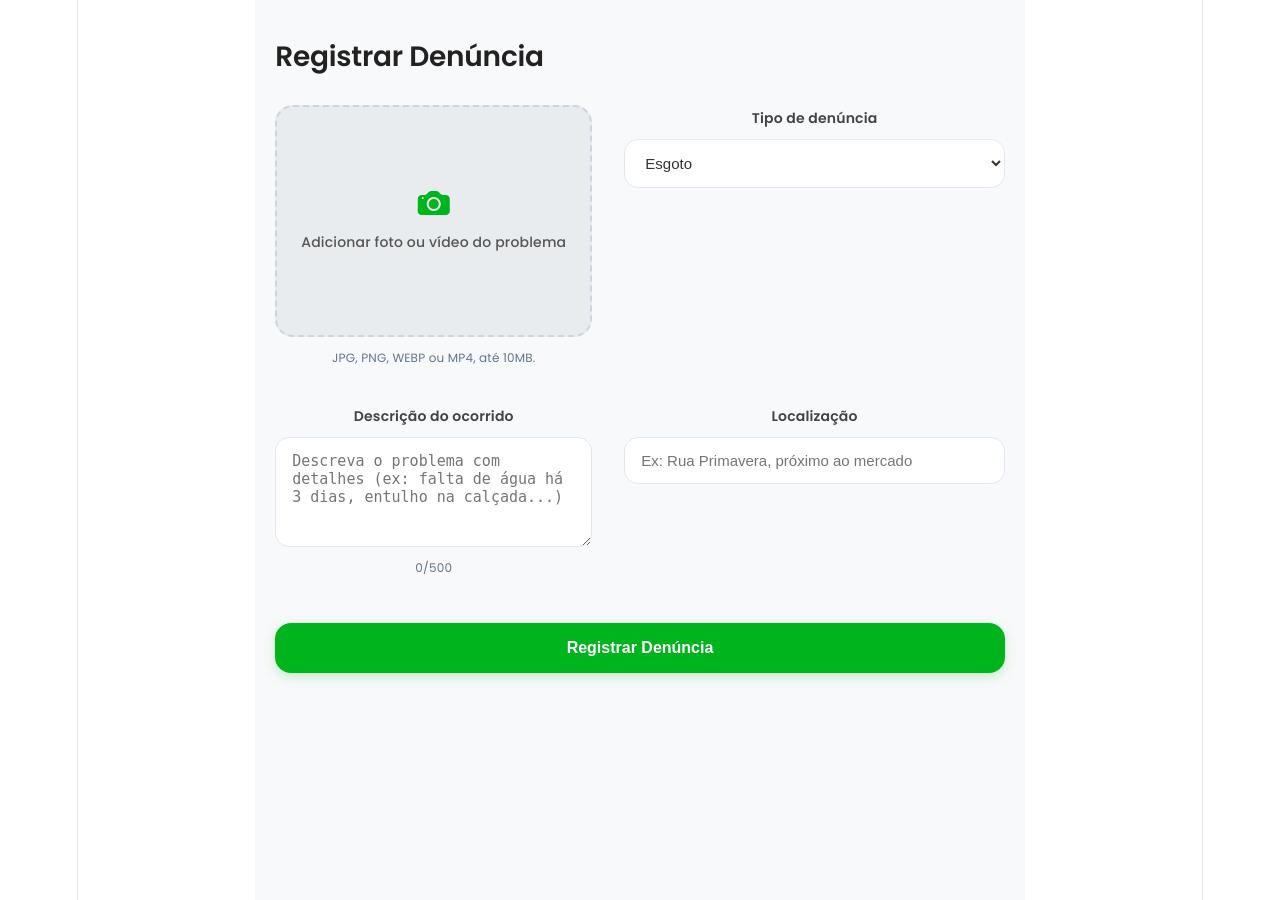
Test: ReportPage › endereço não encontrado mostra erro no campo e permite nova tentativa
Type "Rua Inexistente" into the field labelled "Localização" at (815, 461), box [624,437,1005,484]
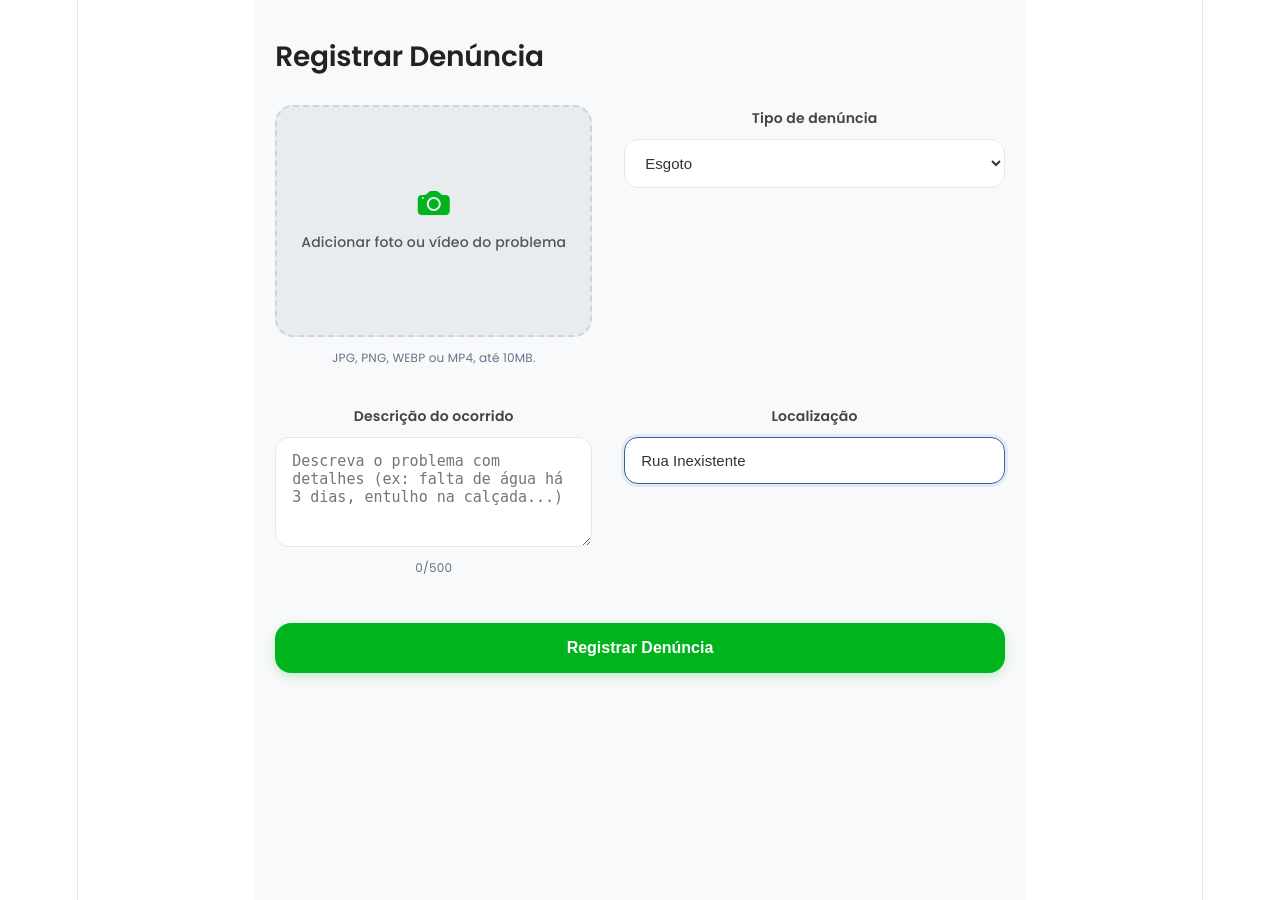
Press Tab
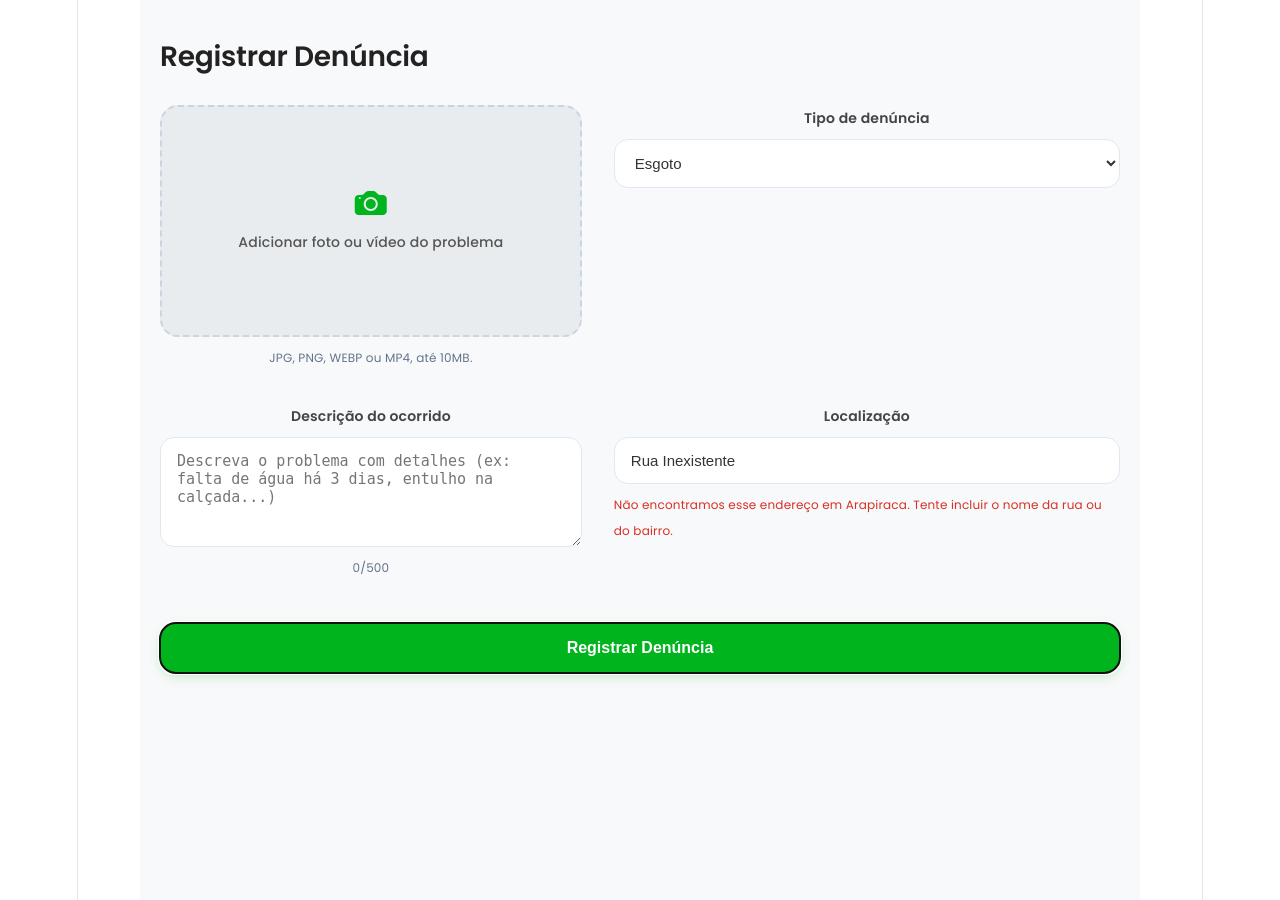
Now the message shows "Não encontramos esse endereço", box [614,496,1102,539]
Click the field labelled "Localização" at (867, 461), box [614,437,1120,484]
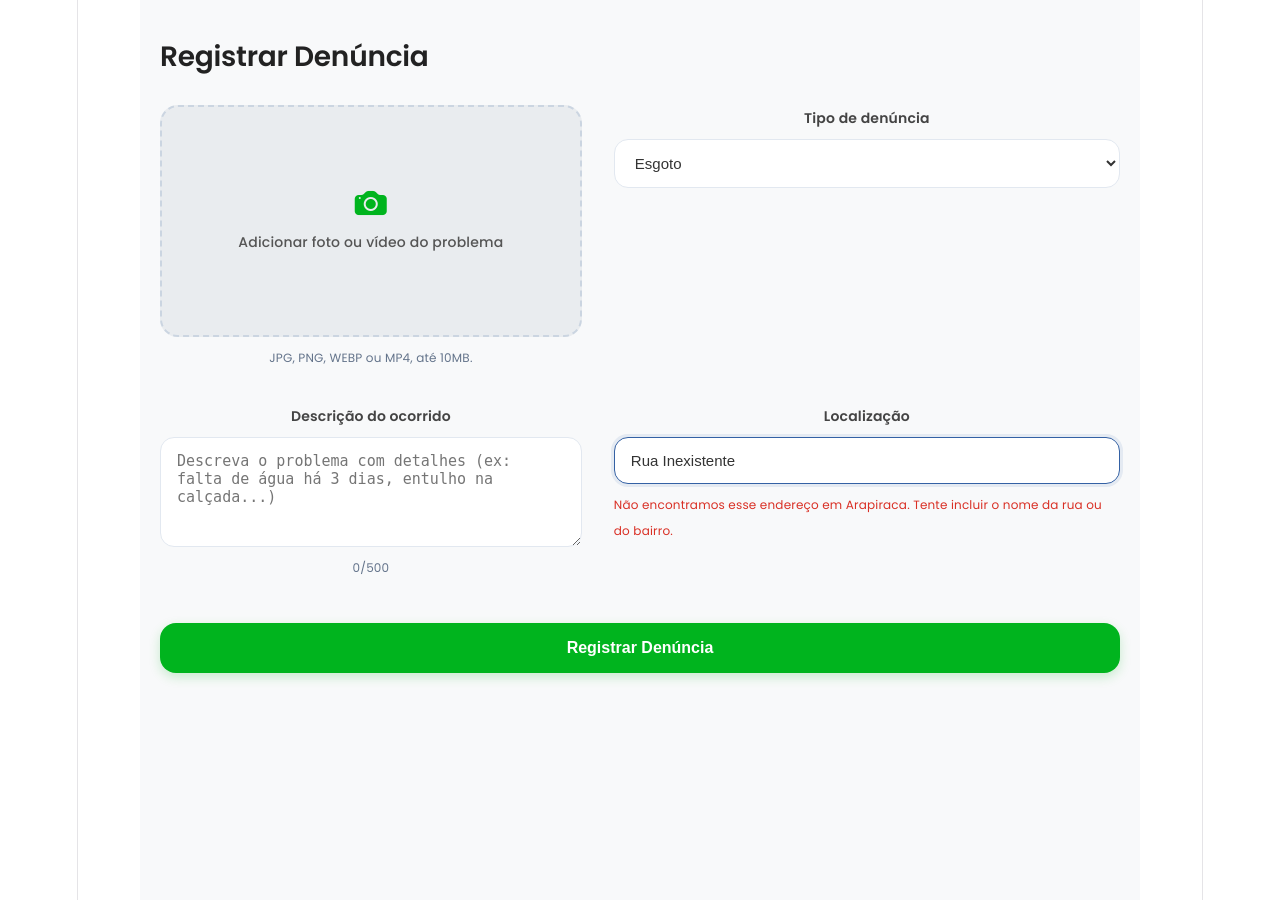
Press Tab
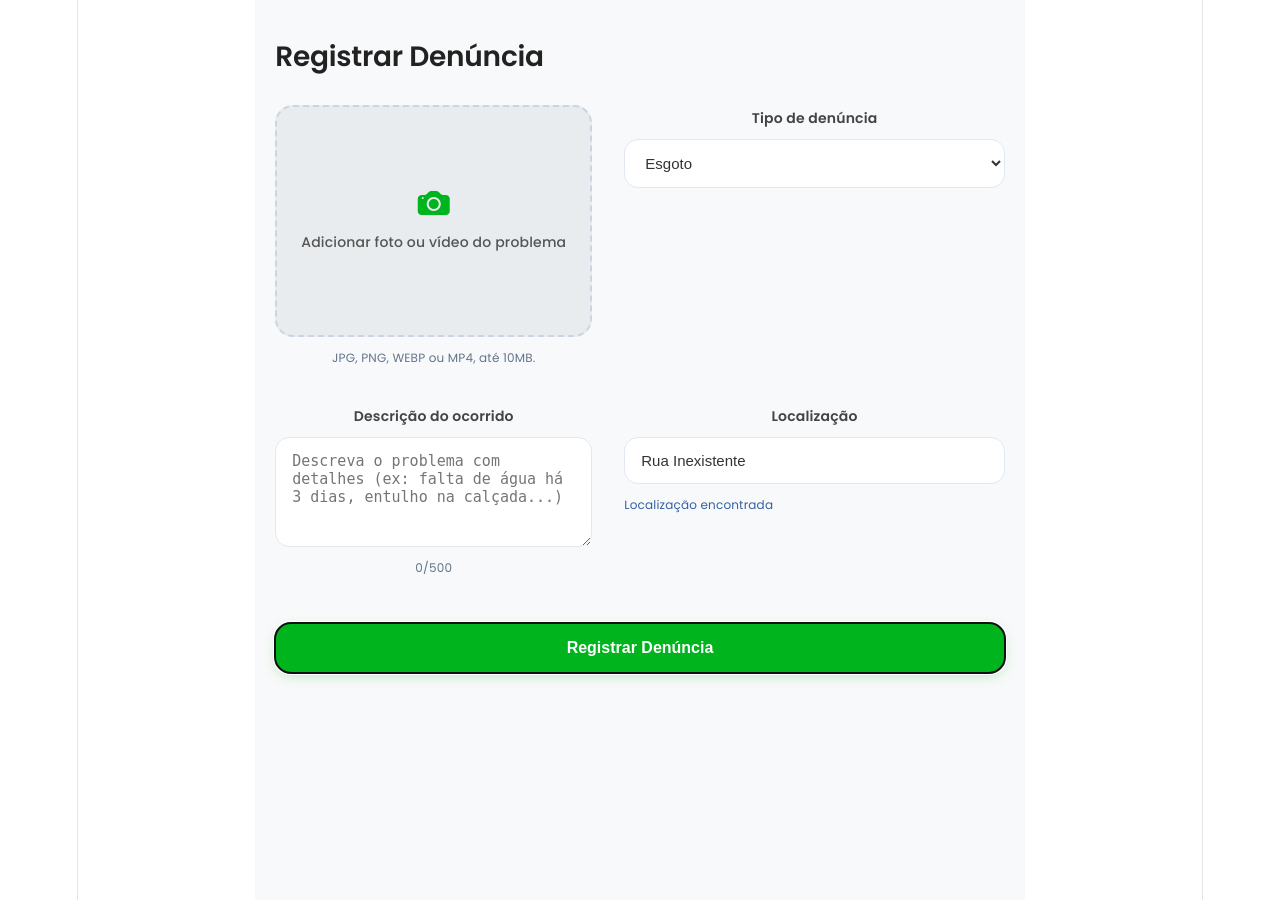
Now the text "Localização encontrada" is shown, box [624,496,773,513]
